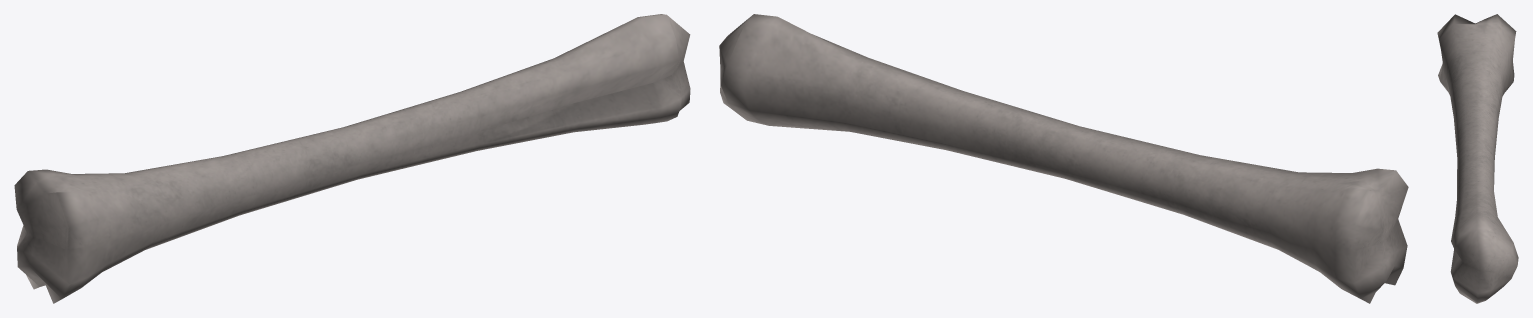
Rendered from bones_01.fbx.
3 views of the same model, side by side, from view 1: azimuth 30°, elevation 25°; view 2: azimuth 150°, elevation 25°; view 3: azimuth 270°, elevation 25° (orthographic). The views are drawn at different scales.
Visible parts, largest first — view 1: bones_01; view 2: bones_01; view 3: bones_01.
Part boxes in pixels (box(x1,y1,x2,y2)): bones_01: box(14, 14, 690, 303); bones_01: box(719, 14, 1408, 303); bones_01: box(1437, 14, 1518, 303).
Bounding box in the file's own units: 1.05 × 0.201 × 0.1531.
1 material, 1 textured.
